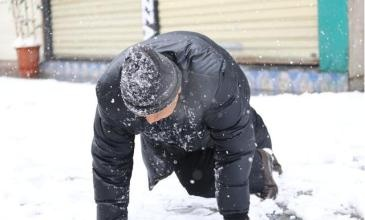falling: (69, 25, 295, 216)
